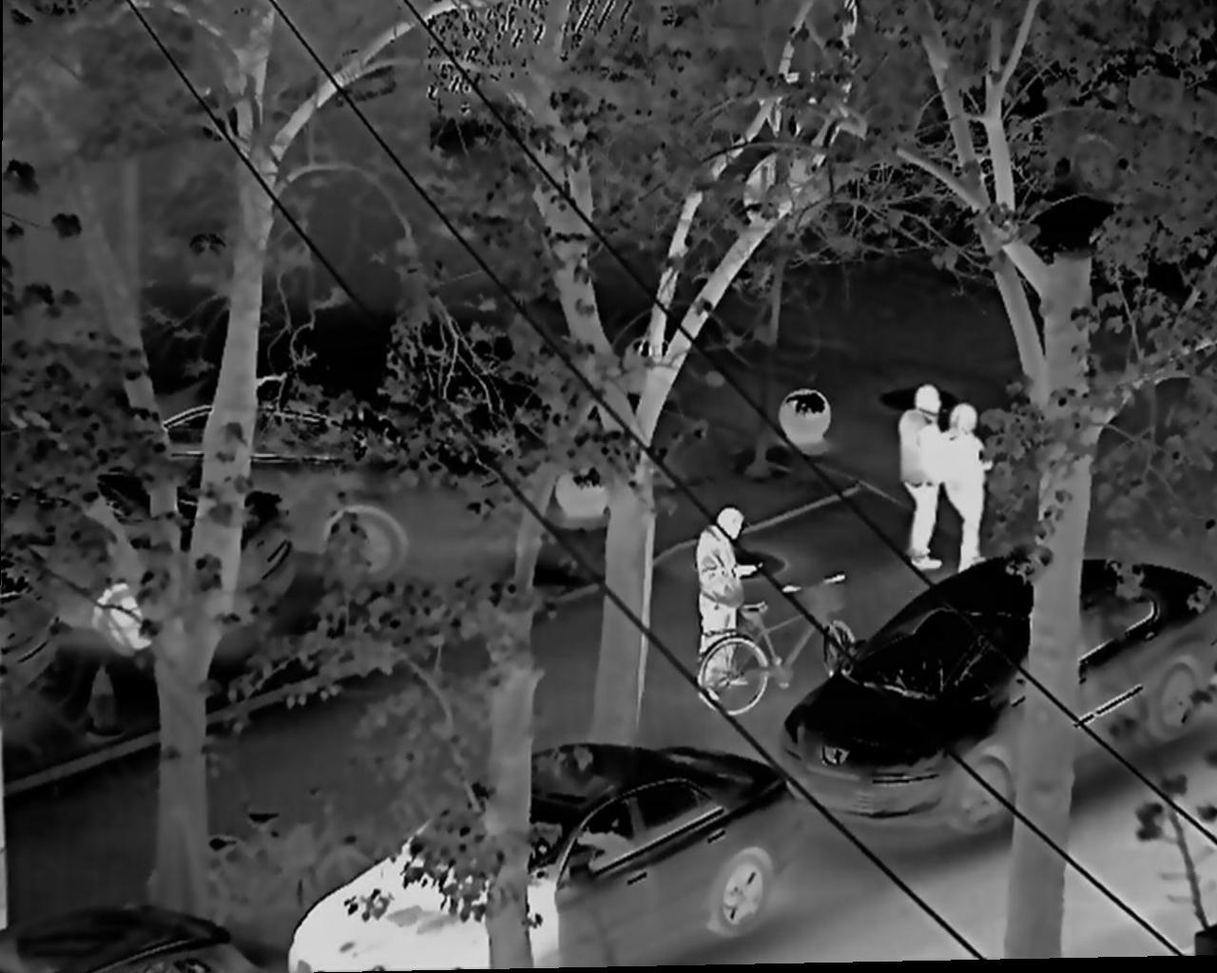person: (695, 506, 763, 712), (940, 402, 992, 575), (898, 382, 940, 570)
